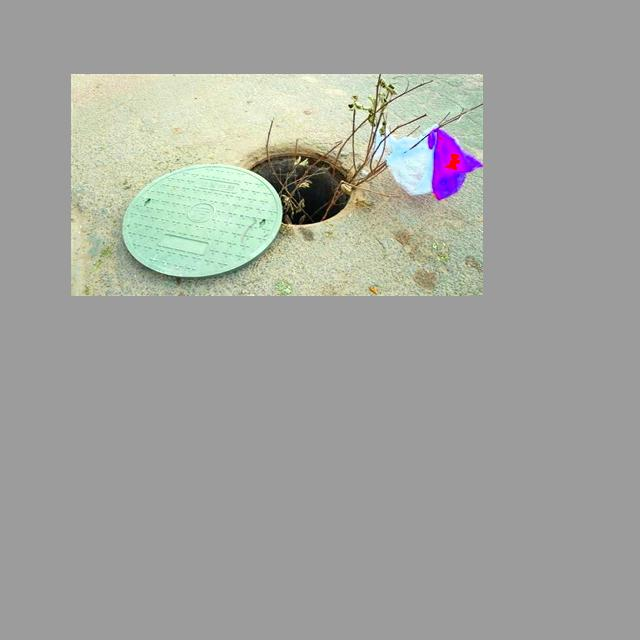uncovered: (118, 139, 381, 277)
